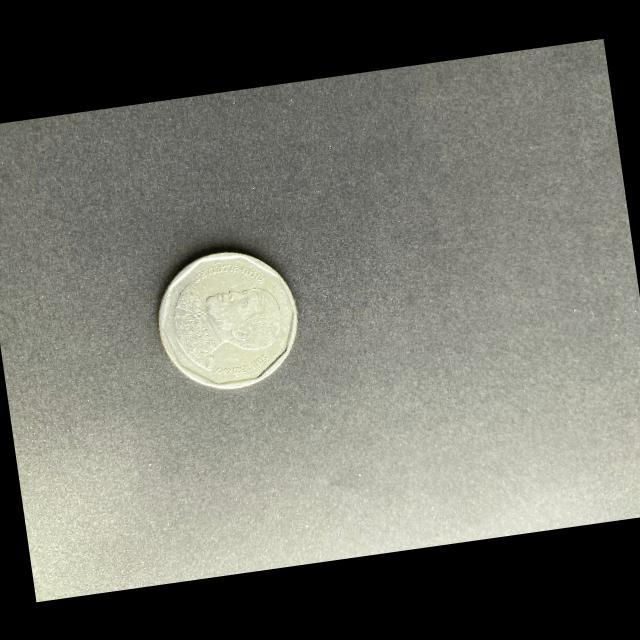5 Bath: (156, 249, 304, 394)
